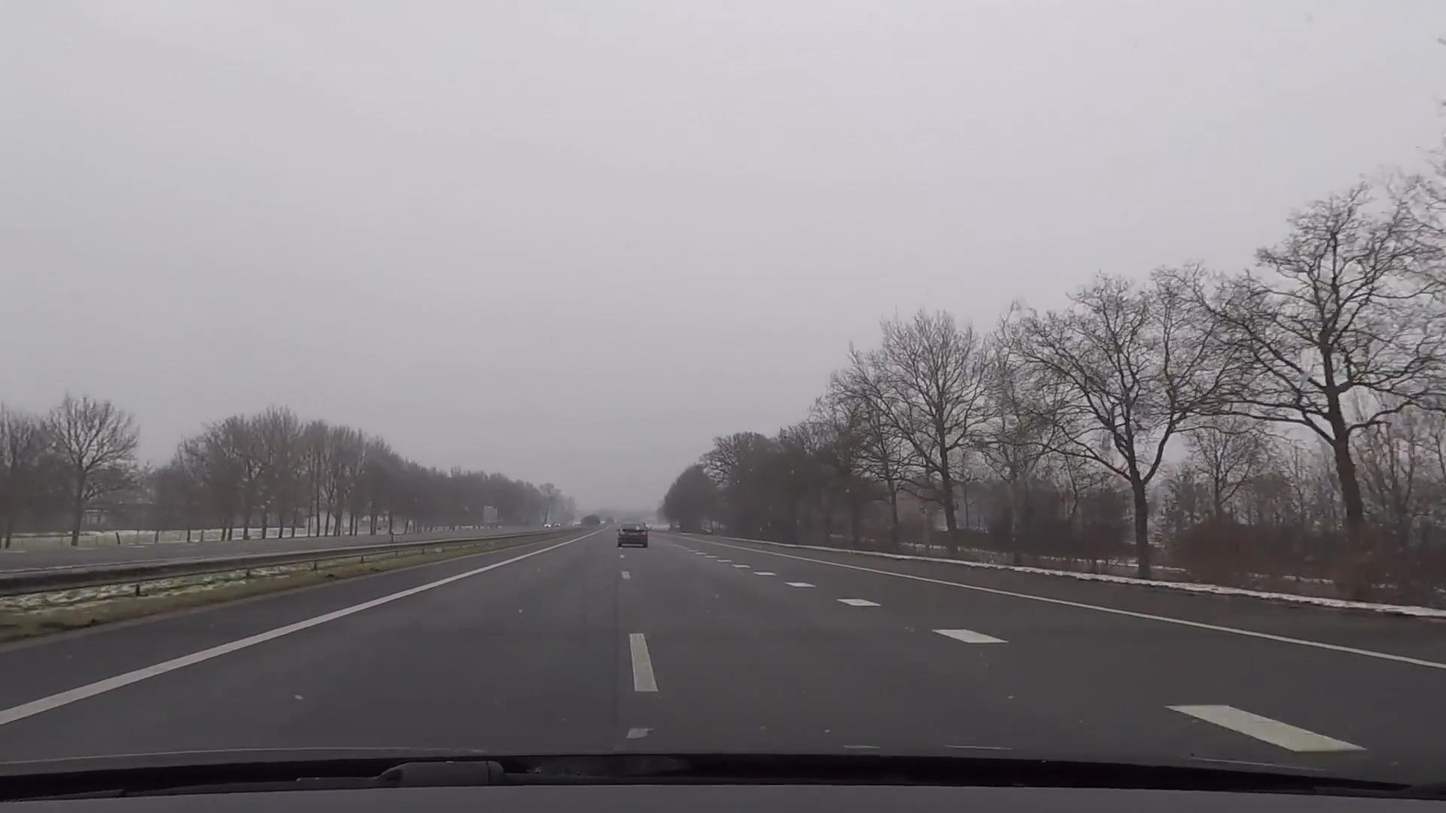dry: (0, 523, 1446, 766)
